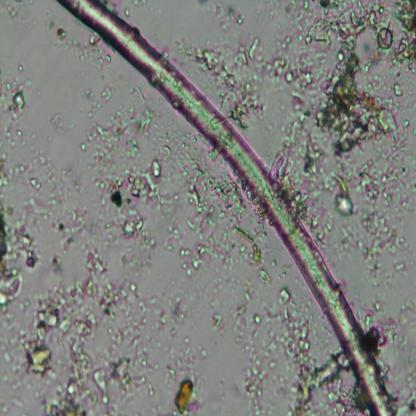Background material: (301, 0, 403, 157), (236, 281, 354, 414), (29, 277, 133, 415), (273, 114, 358, 238), (172, 162, 260, 274), (199, 30, 303, 119), (35, 172, 105, 276), (356, 151, 416, 265), (130, 296, 200, 390), (0, 150, 39, 310), (104, 158, 168, 250), (78, 103, 156, 157), (0, 313, 29, 393), (54, 30, 112, 68), (112, 240, 156, 280), (394, 0, 416, 80), (0, 72, 32, 125), (363, 317, 405, 353), (363, 265, 391, 315), (206, 1, 245, 32), (390, 370, 416, 416), (173, 376, 199, 415), (0, 119, 28, 150), (0, 0, 34, 23), (228, 300, 248, 327), (49, 108, 65, 137), (211, 312, 226, 332), (125, 7, 131, 18)
Diatom: (376, 29, 394, 49)
Microfibre: (58, 0, 395, 415)
